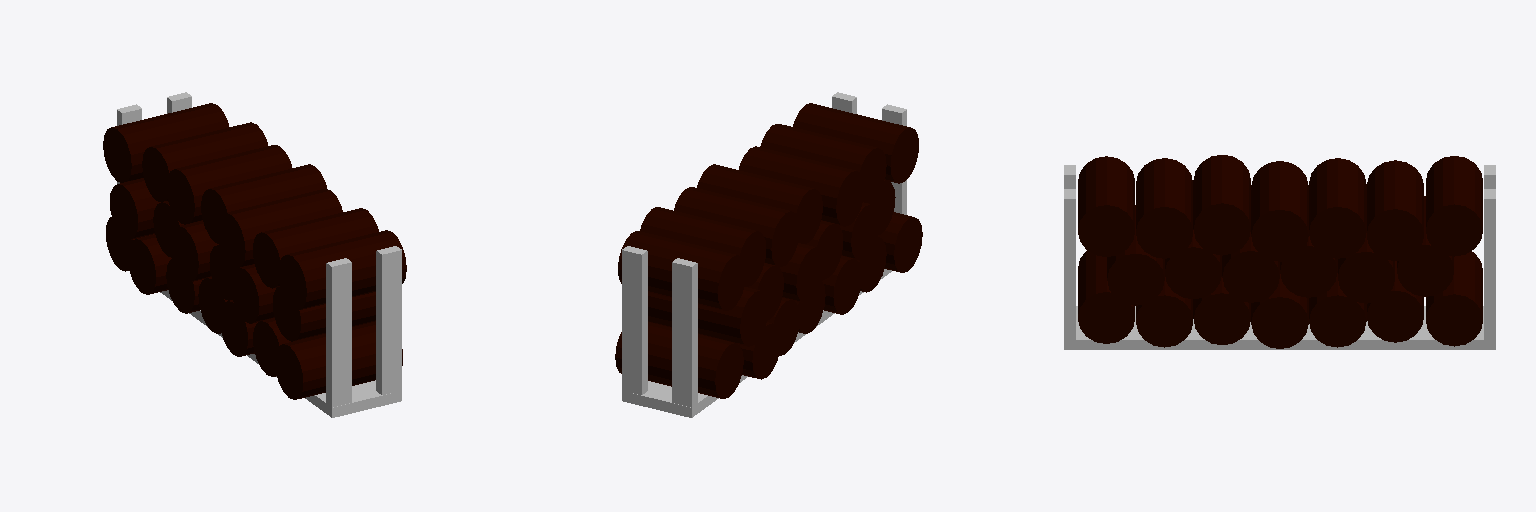
File: CordOfWood.obj
3 renders of one model, left to right at view 1: azimuth 30°, elevation 25°; view 2: azimuth 150°, elevation 25°; view 3: azimuth 270°, elevation 25°, orthographic.
Parts seen in each view (by area): view 1: Cylinder.002, Cube; view 2: Cylinder.002, Cube; view 3: Cylinder.002, Cube.
Part boxes in pixels (x1,y1,x2,y2): Cylinder.002: (103, 103, 406, 399); Cube: (117, 92, 401, 417); Cylinder.002: (615, 103, 922, 398); Cube: (622, 92, 906, 417); Cylinder.002: (1078, 155, 1482, 348); Cube: (1064, 165, 1495, 349).
Bounding box in the file's own units: 0.5214 × 0.6361 × 1.65.